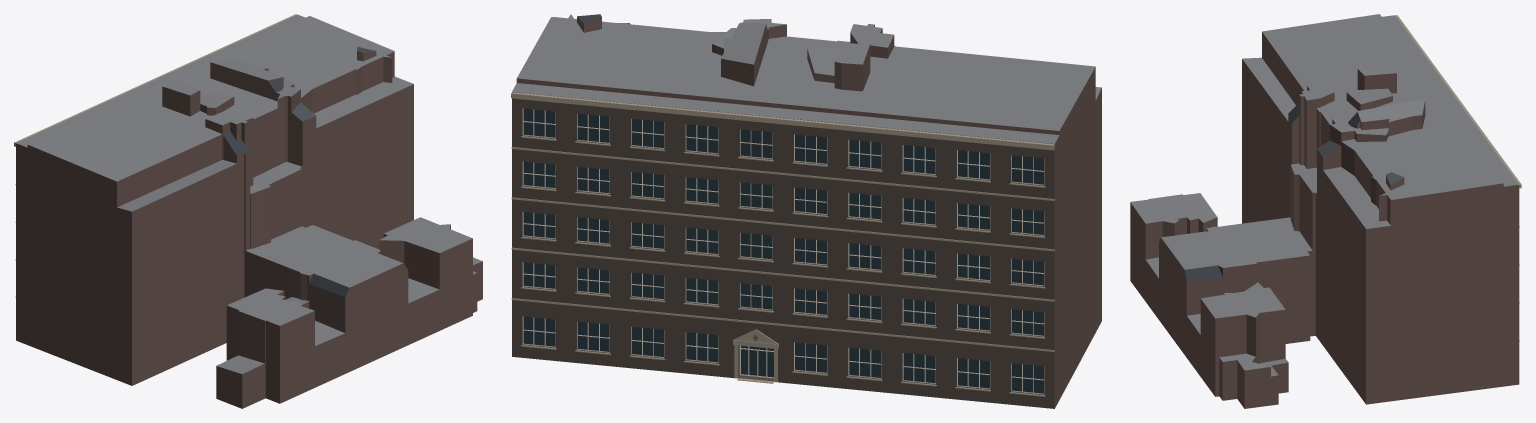
Rendered from recipe-large-nieuwe-achtergracht-100-253824.glb.
The picture shows the model from 3 angles, left to right: view 1: azimuth 30°, elevation 25°; view 2: azimuth 150°, elevation 25°; view 3: azimuth 270°, elevation 25°; orthographic projection. The views are drawn at different scales.
Parts seen in each view (by area): view 1: nieuwe-achtergracht-100-253824; view 2: nieuwe-achtergracht-100-253824; view 3: nieuwe-achtergracht-100-253824.
Boxes of the visible parts, x1,y1,x2,y2 form: nieuwe-achtergracht-100-253824: (14,14,482,408); nieuwe-achtergracht-100-253824: (511,14,1101,408); nieuwe-achtergracht-100-253824: (1130,14,1521,408).
Bounding box in the file's own units: 49.72 × 26.64 × 42.34.
